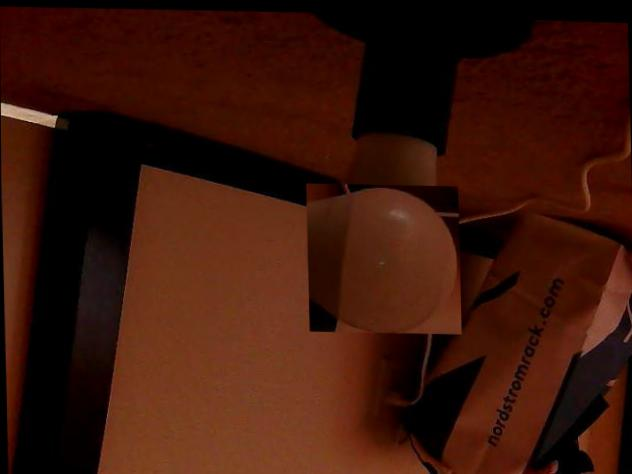Fan: (304, 176, 459, 334)
